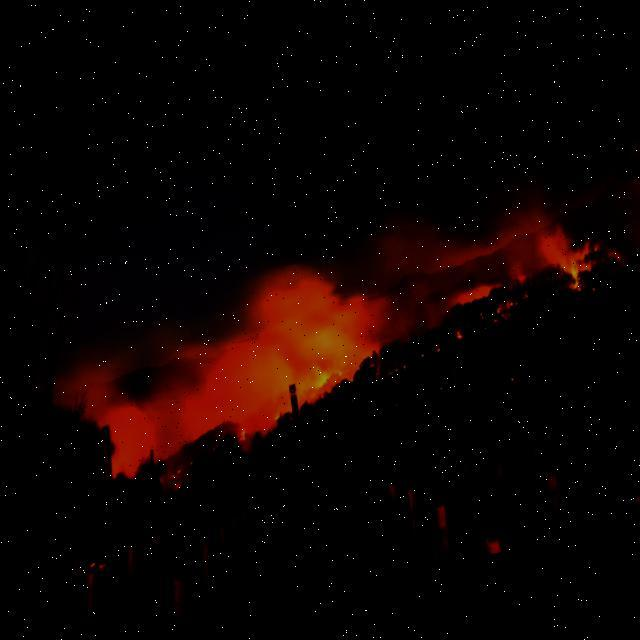Fire: (538, 256, 614, 321), (281, 353, 354, 420)
